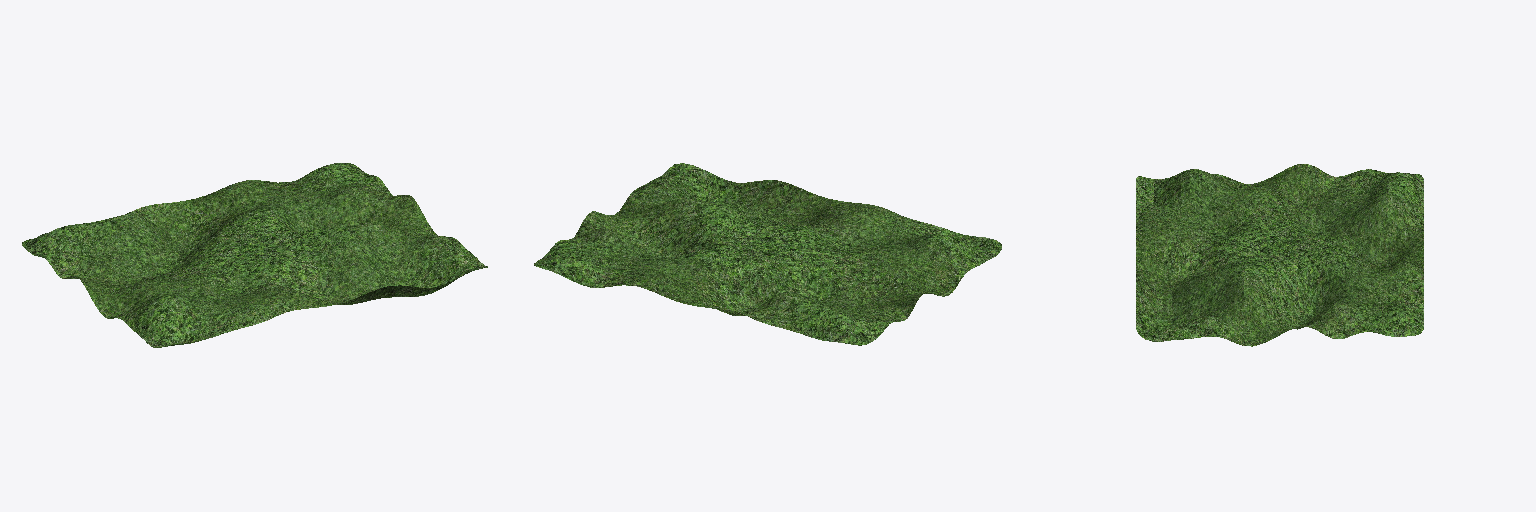
3 views of the same model, side by side, from view 1: azimuth 30°, elevation 25°; view 2: azimuth 150°, elevation 25°; view 3: azimuth 270°, elevation 25° (orthographic).
Visible parts, largest first — view 1: ground_Plane; view 2: ground_Plane; view 3: ground_Plane.
Boxes of the visible parts, box(x1,y1,x2,y2) form: ground_Plane: box(22, 163, 487, 347); ground_Plane: box(534, 163, 1001, 345); ground_Plane: box(1136, 164, 1423, 346).
Bounding box in the file's own units: 502 × 61.94 × 375.
1 materials, 1 textured.